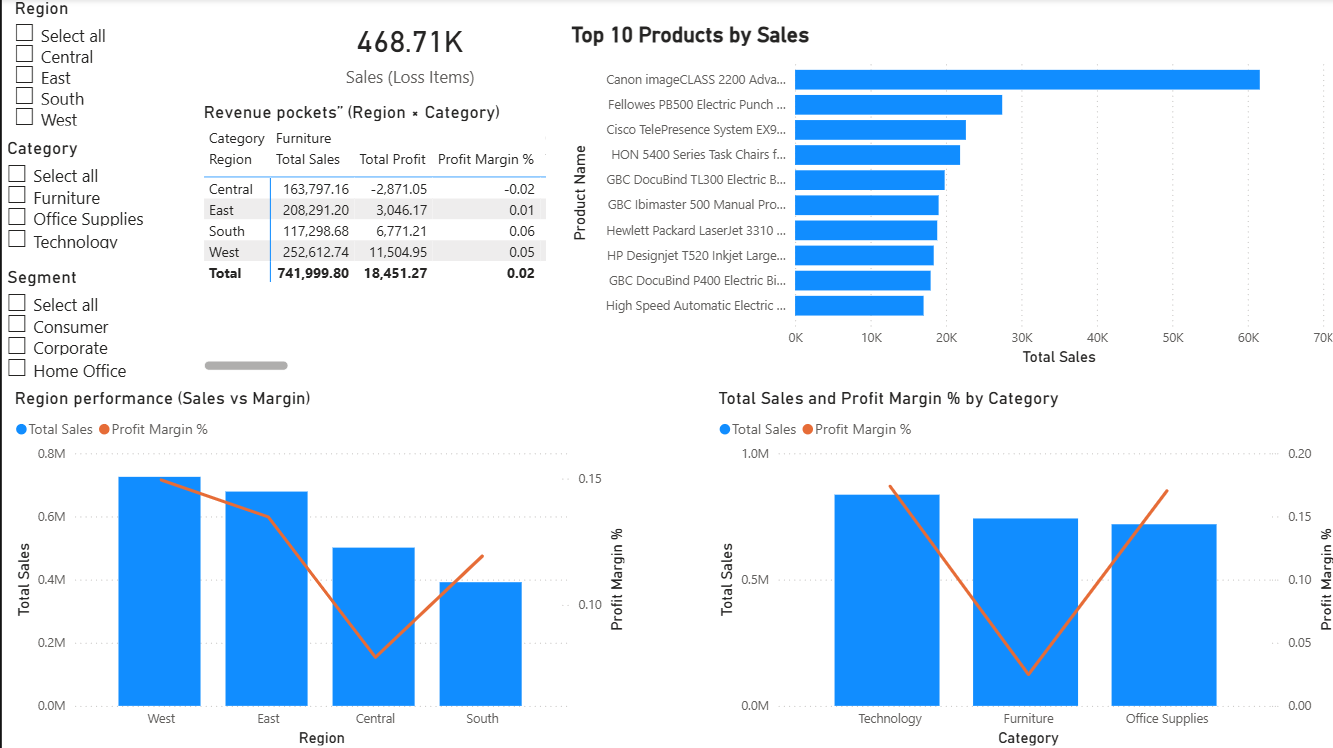

This screenshot's page, from the dashboard's own definition file:
{"tool":"powerbi","page":{"name":"Product & Market Performance","canvas":[1280,720],"ordinal":1},"visuals":[{"type":"listSlicer","fields":{"Values":["superstore_clean_for_powerbi.Region"]},"box":[7,-1,105,196.3],"z":0},{"type":"listSlicer","fields":{"Values":["superstore_clean_for_powerbi.Category"]},"box":[0,132.1,153,201.6],"z":1000},{"type":"listSlicer","fields":{"Values":["superstore_clean_for_powerbi.Segment"]},"box":[0,254.9,166.9,200.5],"z":2000},{"type":"lineStackedColumnComboChart","title":"Region performance (Sales vs Margin)","fields":{"Category":["superstore_clean_for_powerbi.Region"],"Y":["superstore_clean_for_powerbi.Total Sales"],"Y2":["superstore_clean_for_powerbi.Profit Margin %"]},"box":[7.2,372.5,593.4,347.5],"z":3000},{"type":"pivotTable","title":"Revenue pockets” (Region × Category)","fields":{"Rows":["superstore_clean_for_powerbi.Region"],"Columns":["superstore_clean_for_powerbi.Category"],"Values":["superstore_clean_for_powerbi.Total Sales","superstore_clean_for_powerbi.Total Profit","superstore_clean_for_powerbi.Profit Margin %"]},"box":[187.5,97.9,337.9,262.7],"z":5000},{"type":"card","fields":{"Values":["superstore_clean_for_powerbi.Sales (Loss Items)"]},"box":[290.1,0,200.6,97.9],"z":6000},{"type":"lineStackedColumnComboChart","fields":{"Category":["superstore_clean_for_powerbi.Category"],"Y":["superstore_clean_for_powerbi.Total Sales"],"Y2":["superstore_clean_for_powerbi.Profit Margin %"]},"box":[680.6,372.5,599.4,347.5],"z":7000},{"type":"clusteredBarChart","title":"Top 10 Products by Sales","fields":{"Y":["Sum(Top10_Products.Total Sales)"],"Category":["Top10_Products.Product Name"]},"box":[540,21.5,739.6,333.2],"z":7001}]}

Visuals, with their boxes in screenshot pixels (x1, y1, x2, y2), scaled from the page's 1280x720 canvas onto the 1333x748 screenshot:
listSlicer - superstore_clean_for_powerbi.Region: 7 0 117 203
listSlicer - superstore_clean_for_powerbi.Category: 0 137 159 347
listSlicer - superstore_clean_for_powerbi.Segment: 0 265 174 473
"Region performance (Sales vs Margin)" lineStackedColumnComboChart: 7 387 625 747
"Revenue pockets” (Region × Category)" pivotTable: 195 102 547 375
card - superstore_clean_for_powerbi.Sales (Loss Items): 302 0 511 102
lineStackedColumnComboChart - superstore_clean_for_powerbi.Category x superstore_clean_for_powerbi.Total Sales: 709 387 1332 747
"Top 10 Products by Sales" clusteredBarChart: 562 22 1332 368
